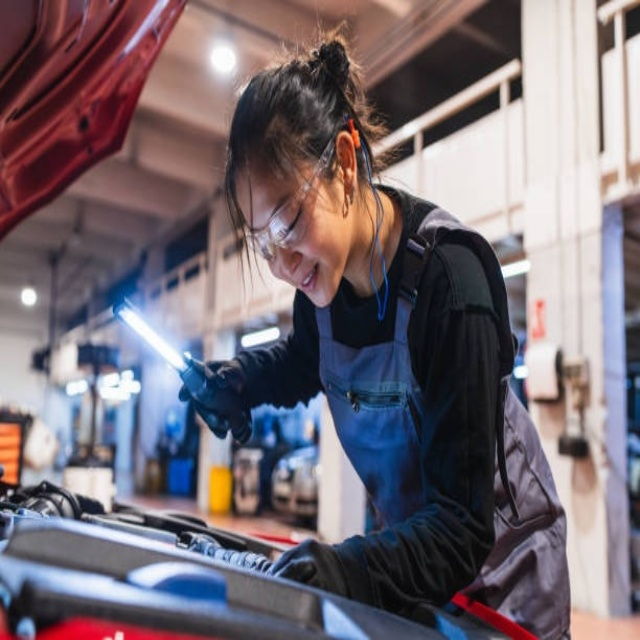Gafas: (250, 139, 336, 262)
Guantes: (179, 356, 254, 444), (267, 537, 340, 590)
Sin_mascara: (285, 259, 334, 307)
